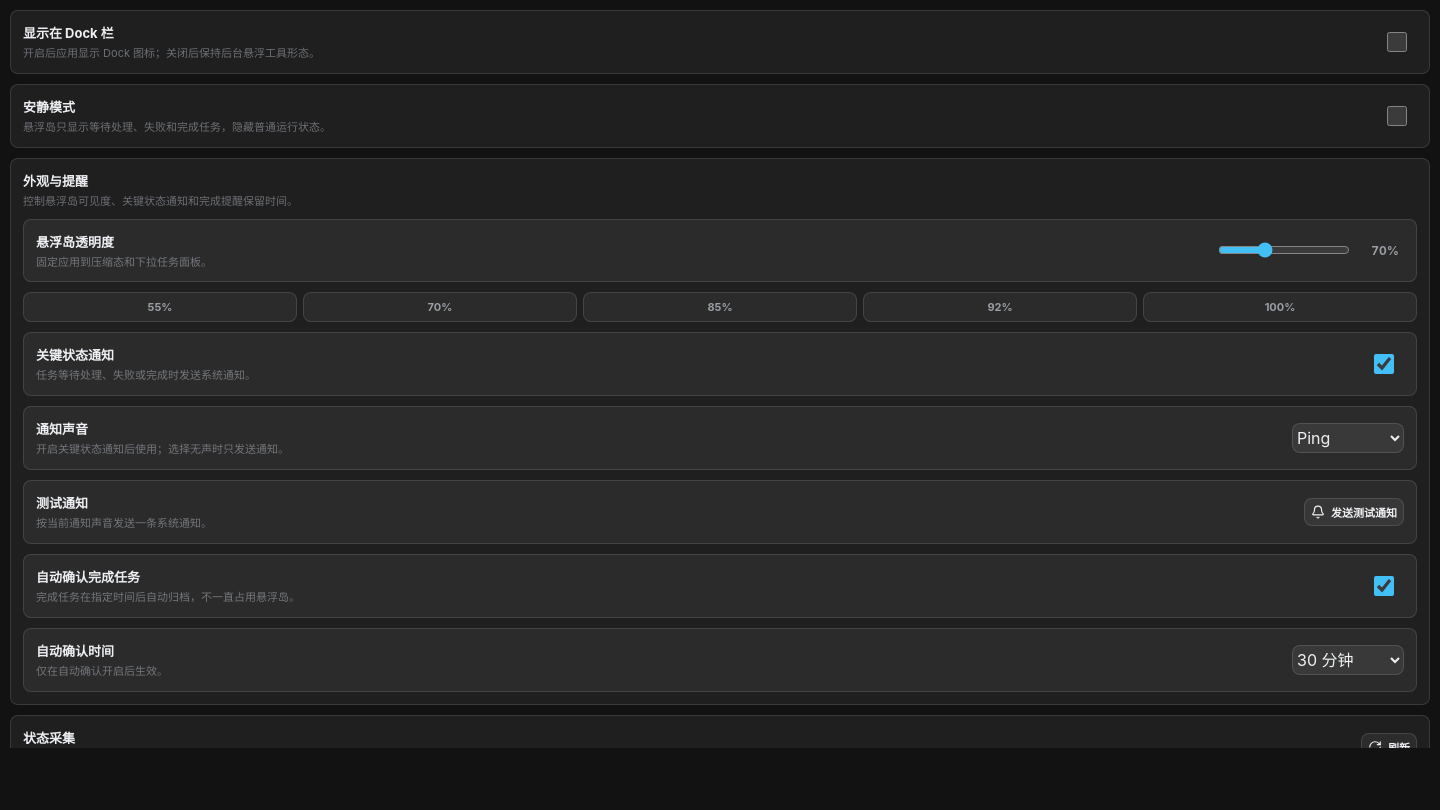
it: SettingsPanel hook source controls › shows appearance, notification, and auto acknowledgement settings
The image size is (1440, 810).
Select "5 分钟" in the dropdown labelled "自动确认时间 仅在自动确认开启后生效。" at x=1348, y=660, box [1292,645,1404,675]
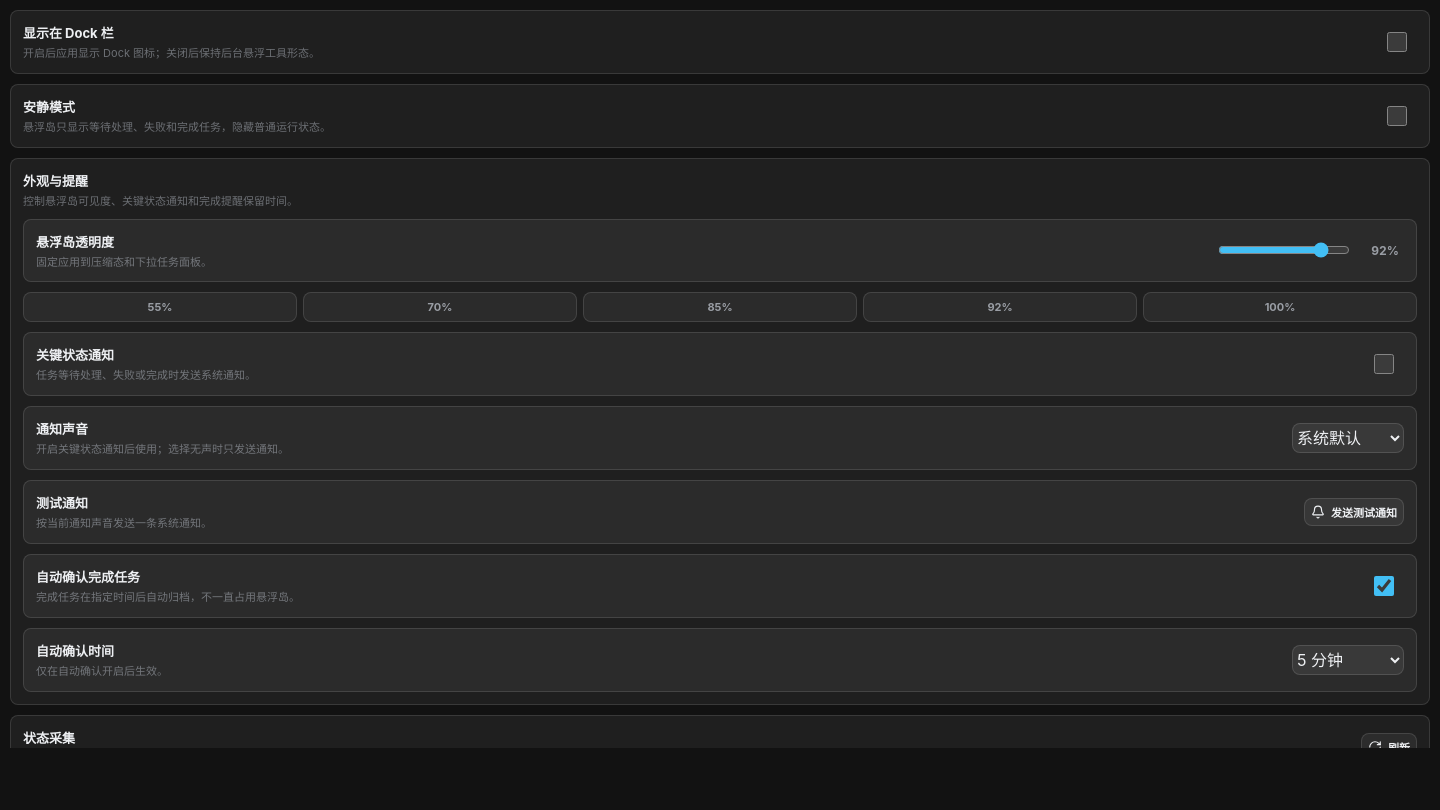
Select "Hero" in the dropdown labelled "通知声音 开启关键状态通知后使用；选择无声时只发送通知。" at x=1348, y=438, box [1292,423,1404,453]
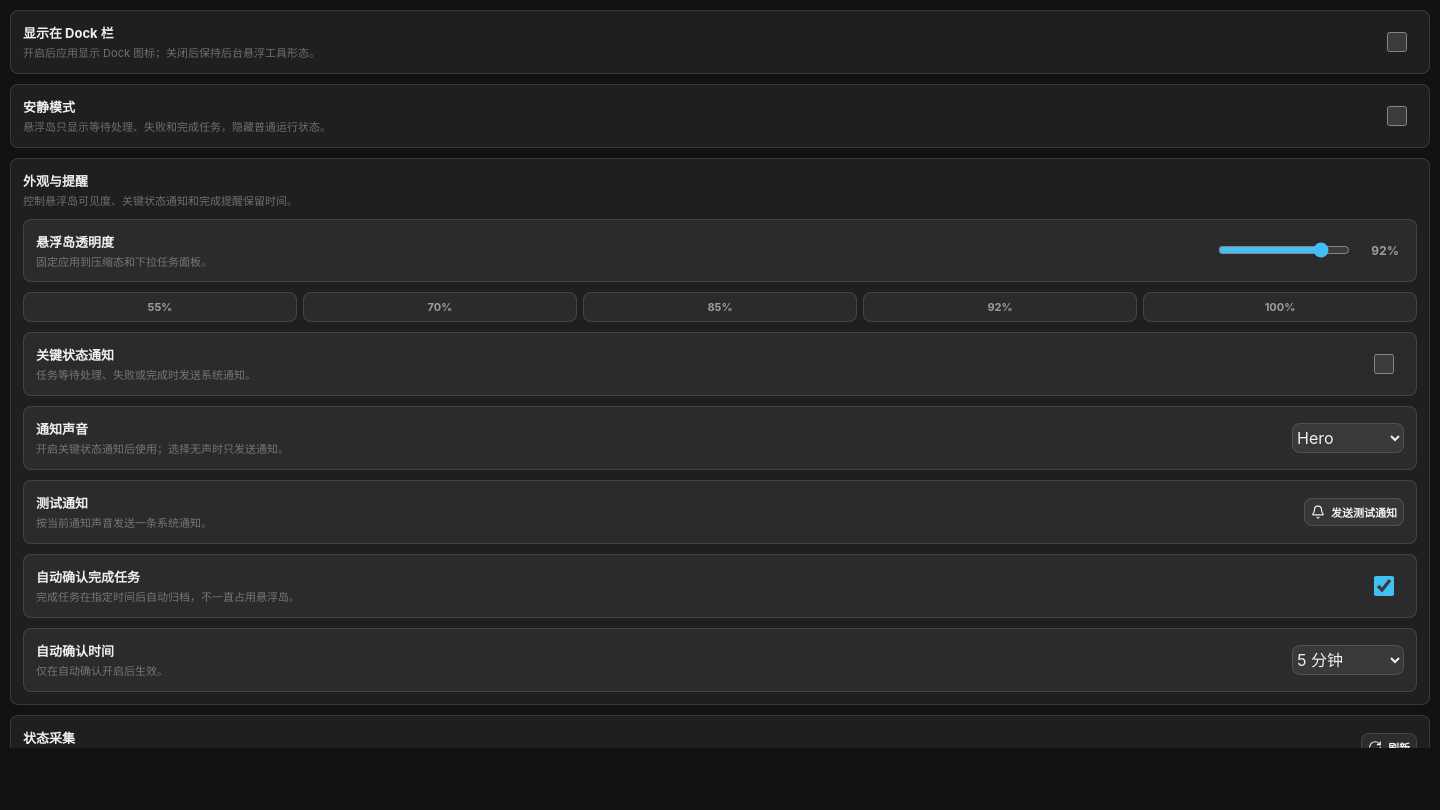
Click the button "发送测试通知".
click(1354, 512)  # box [1304,498,1404,526]
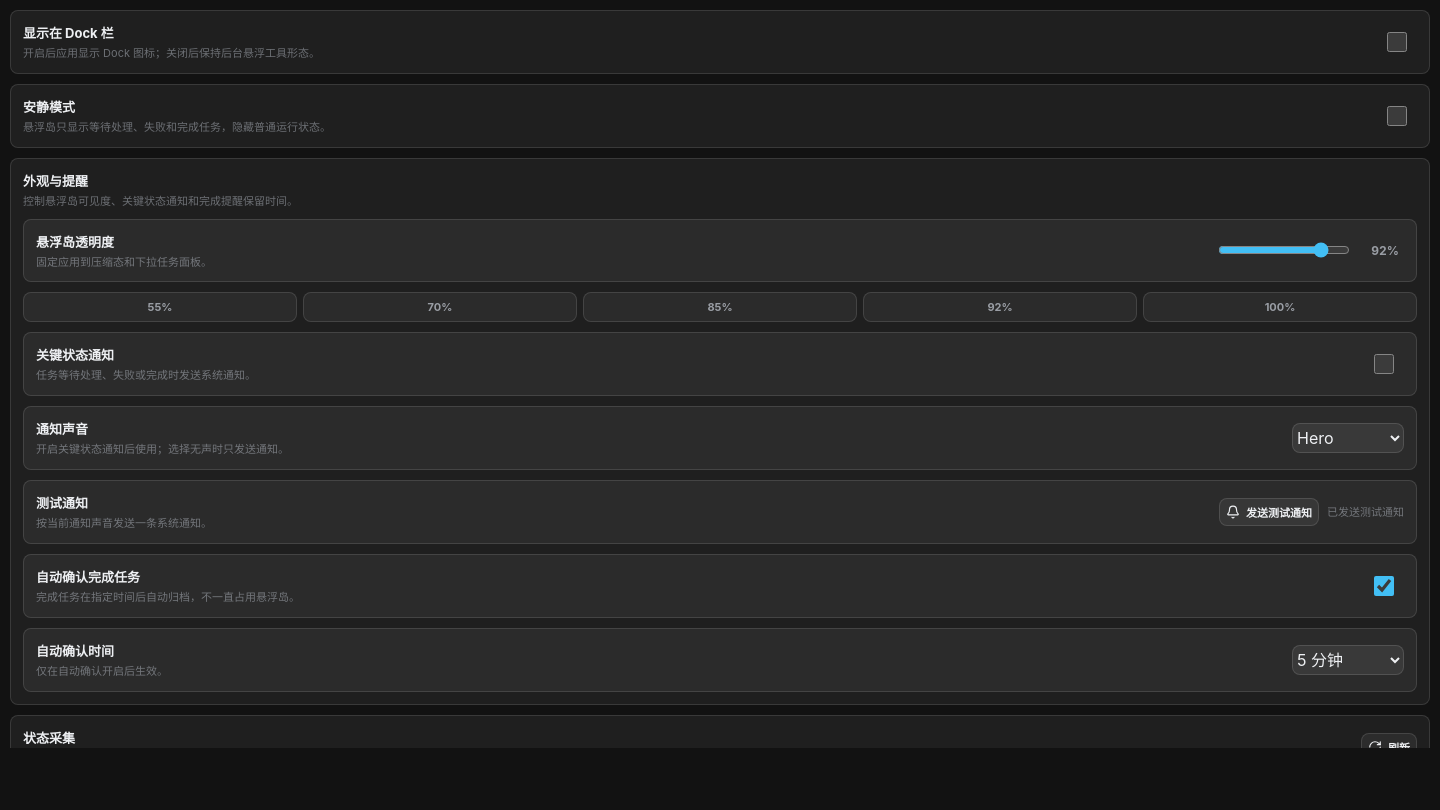
Expected: the text "已发送测试通知" is shown, [1327,505,1404,519]
